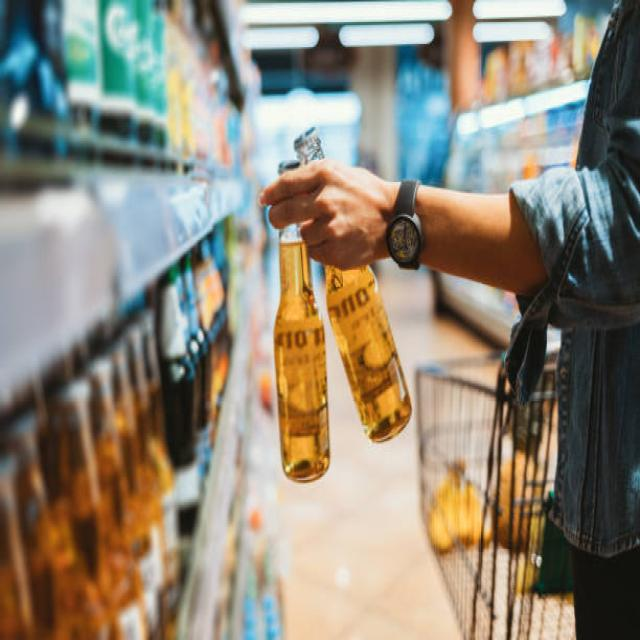article: (325, 267, 410, 441), (274, 231, 329, 478)
hands: (258, 156, 399, 266)
